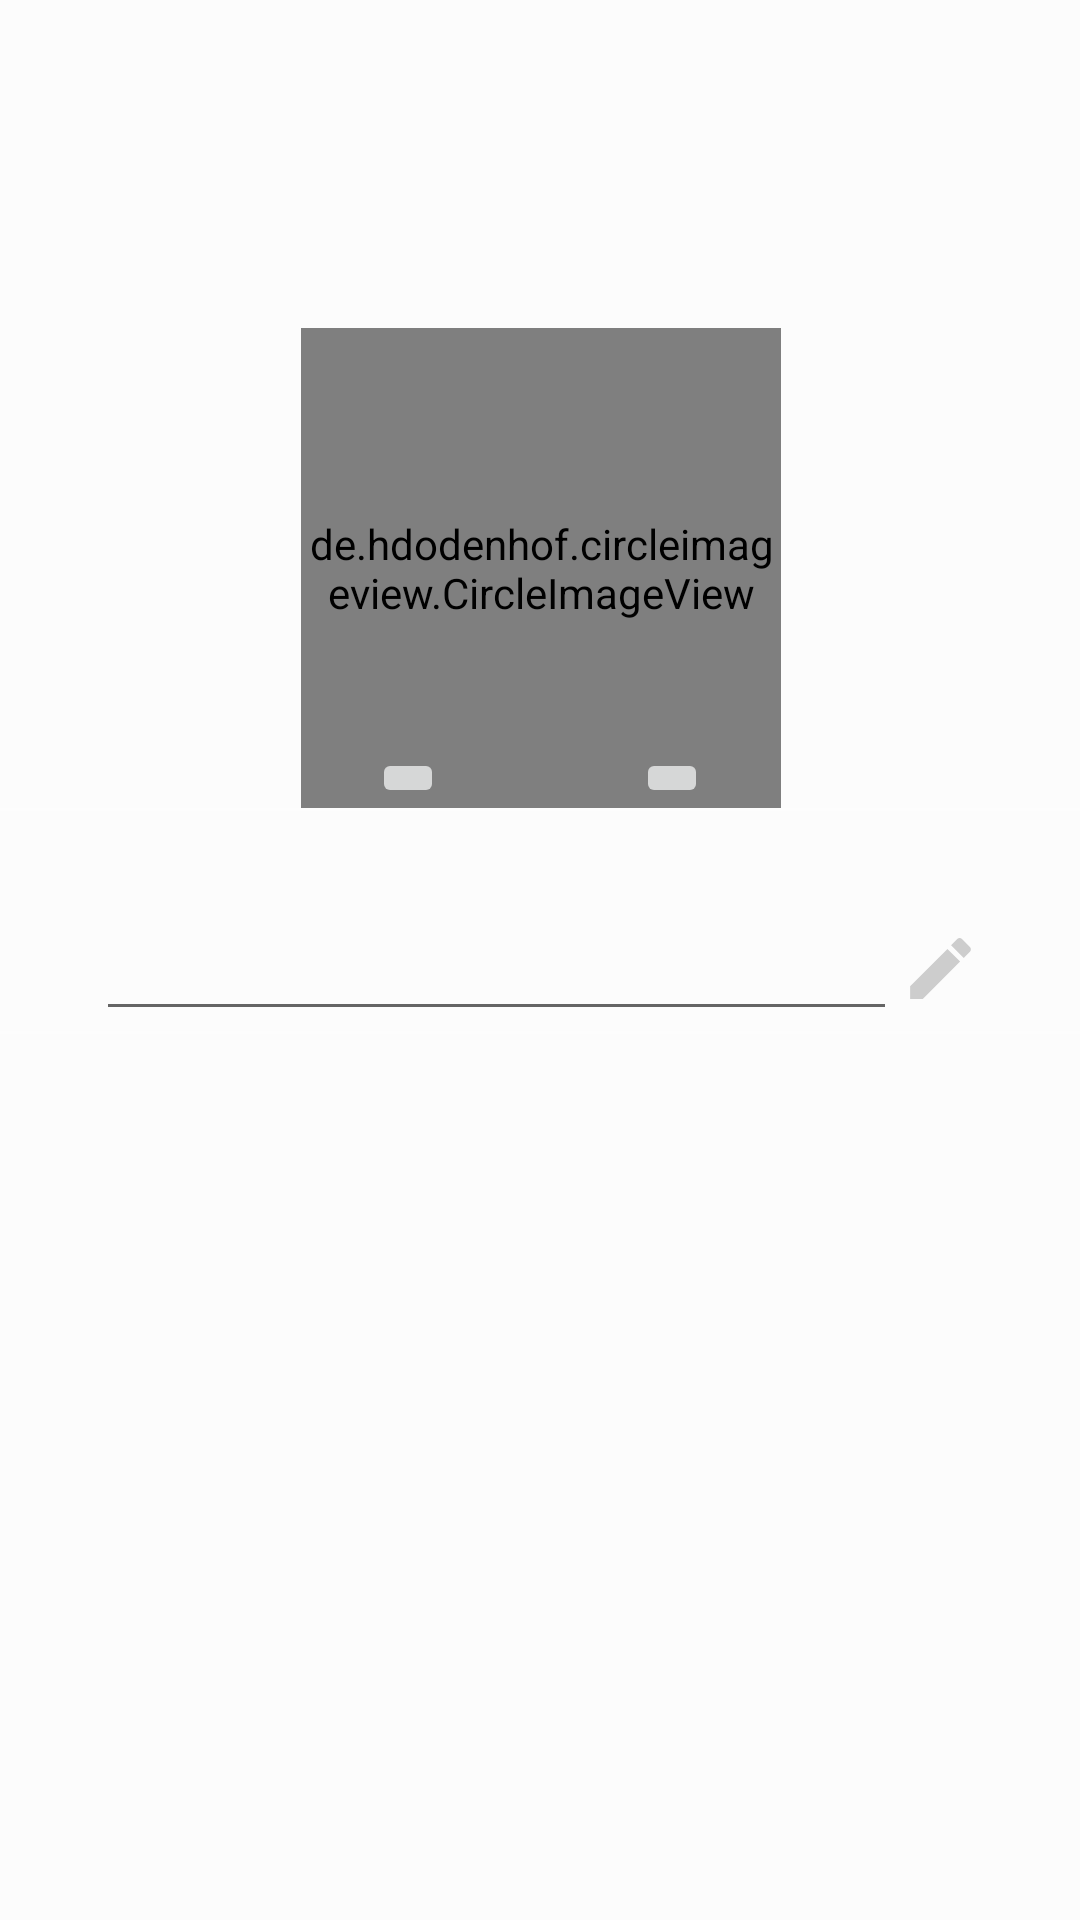

Icon bounding boxes for this 1080*1920 phone screenshot, format (x1, y1, x2, y2):
edit: (910, 938, 971, 999)
